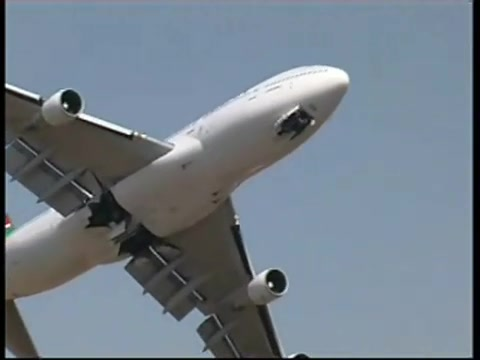aeroplane: (4, 63, 352, 359)
